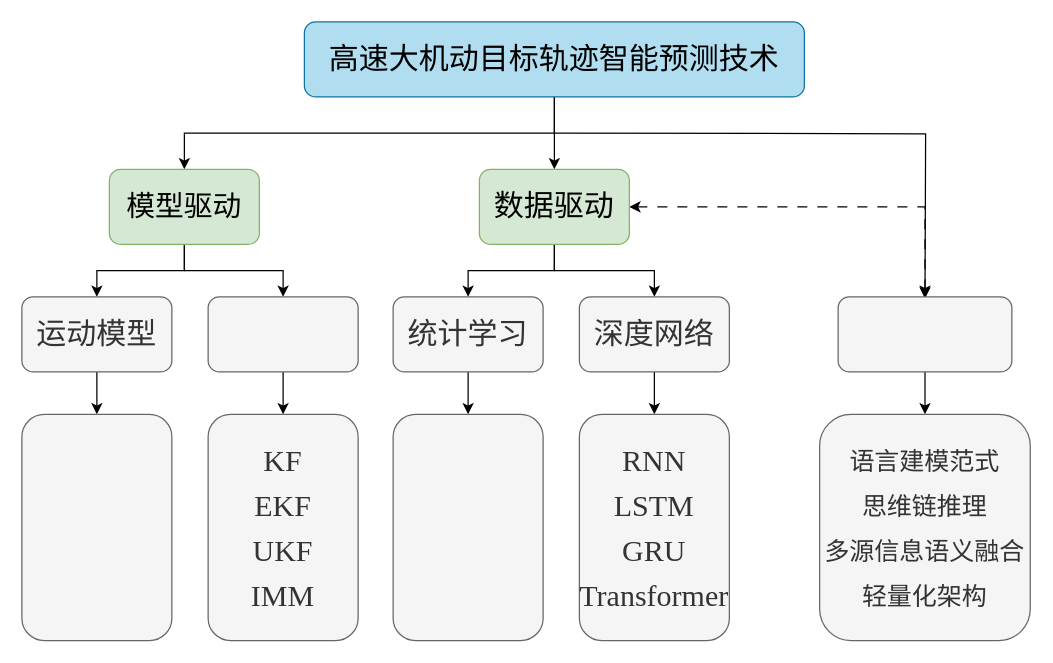
Some shapes in this 1053 by 663 pixel diagram are drawn without their labels. Each missing label, with the centre of its shape:
CV CA Singer CJ CAV: the point at 96,527
SVR GPR HMM BN: the point at 467,527
大语言模型: the point at 924,334
滤波方法: the point at 282,334
